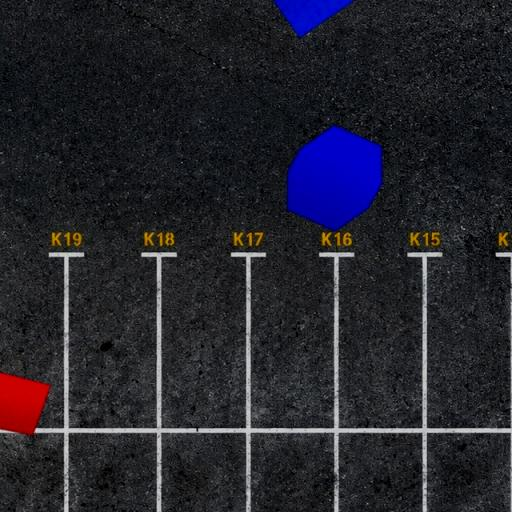RED_SQUARE: (0, 371, 51, 437)
